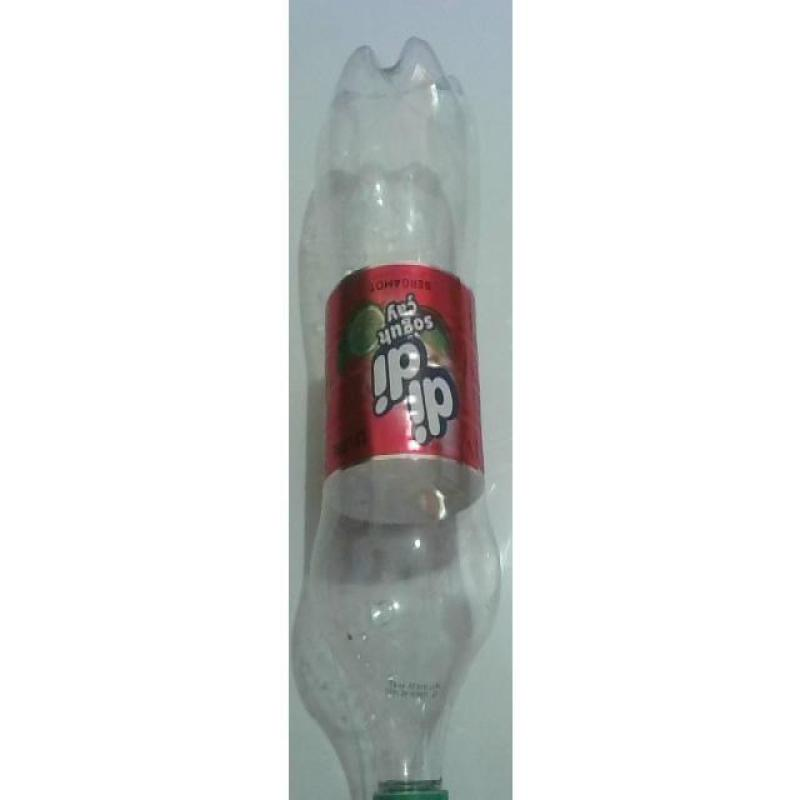botella: (309, 36, 505, 800)
